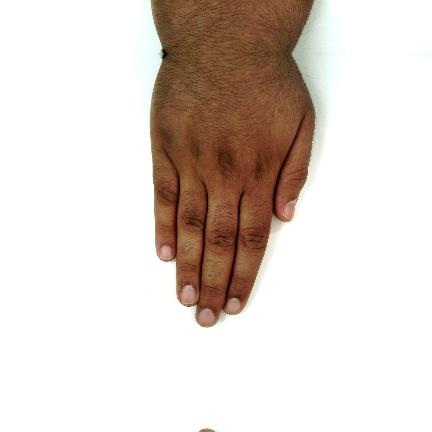Nail: (198, 309, 216, 328), (181, 287, 198, 305), (224, 298, 241, 315), (283, 201, 296, 219), (160, 245, 174, 260), (199, 428, 215, 432)
